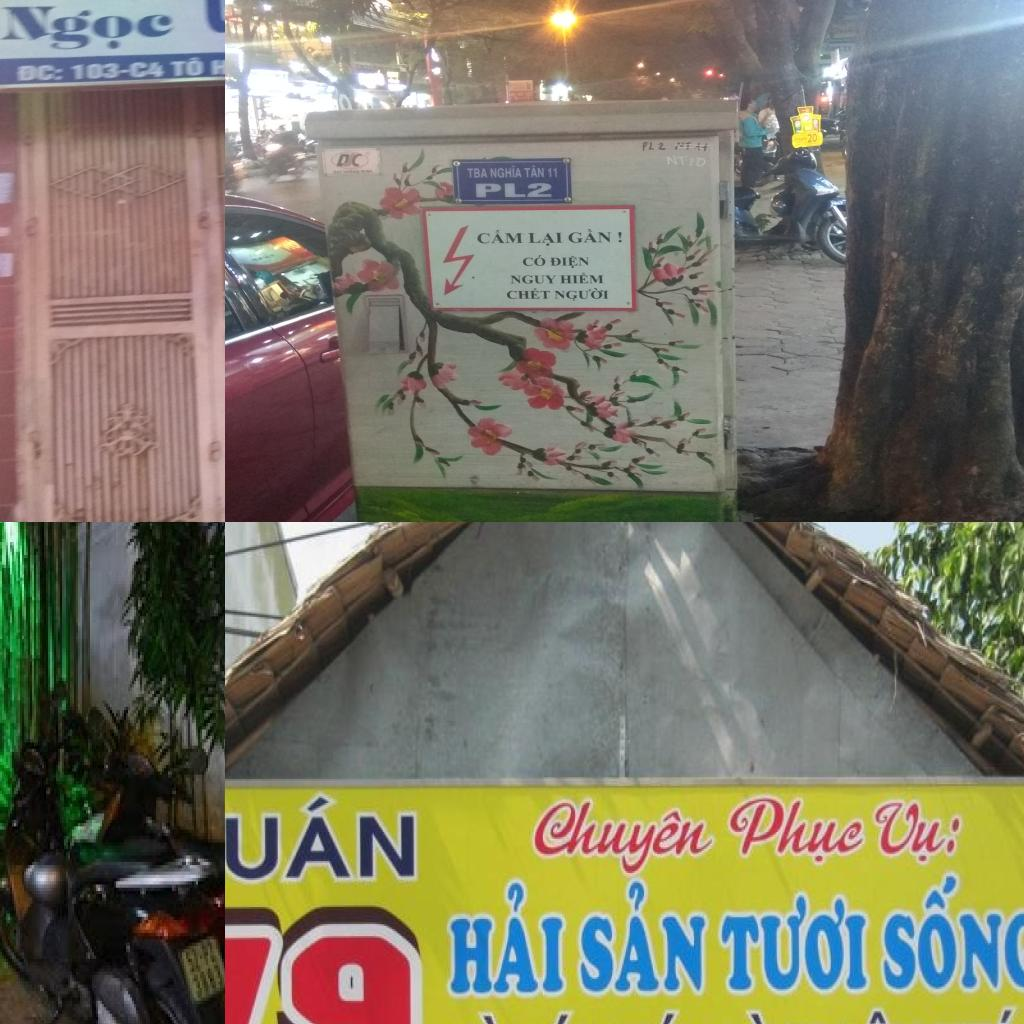text: (225, 919, 425, 1024), (225, 792, 417, 890), (877, 869, 1024, 995), (718, 890, 872, 997), (578, 876, 710, 998), (528, 796, 724, 878), (446, 874, 571, 1002), (723, 792, 872, 870), (0, 4, 178, 54), (868, 796, 972, 871), (68, 59, 168, 82), (180, 936, 222, 978), (190, 962, 225, 1004), (13, 62, 66, 84), (475, 183, 552, 198), (167, 54, 206, 79), (478, 229, 524, 244), (554, 288, 609, 300), (569, 229, 612, 243), (665, 155, 707, 168), (560, 272, 604, 284), (550, 256, 589, 269), (206, 52, 225, 78), (528, 232, 563, 246), (506, 288, 550, 299), (490, 165, 523, 178), (510, 275, 556, 284), (521, 255, 546, 266), (642, 141, 667, 152), (523, 165, 544, 178), (467, 168, 488, 179), (546, 168, 558, 178), (806, 133, 818, 143), (795, 136, 808, 143), (343, 169, 359, 174), (360, 170, 374, 174), (618, 232, 622, 243), (332, 170, 342, 174)
